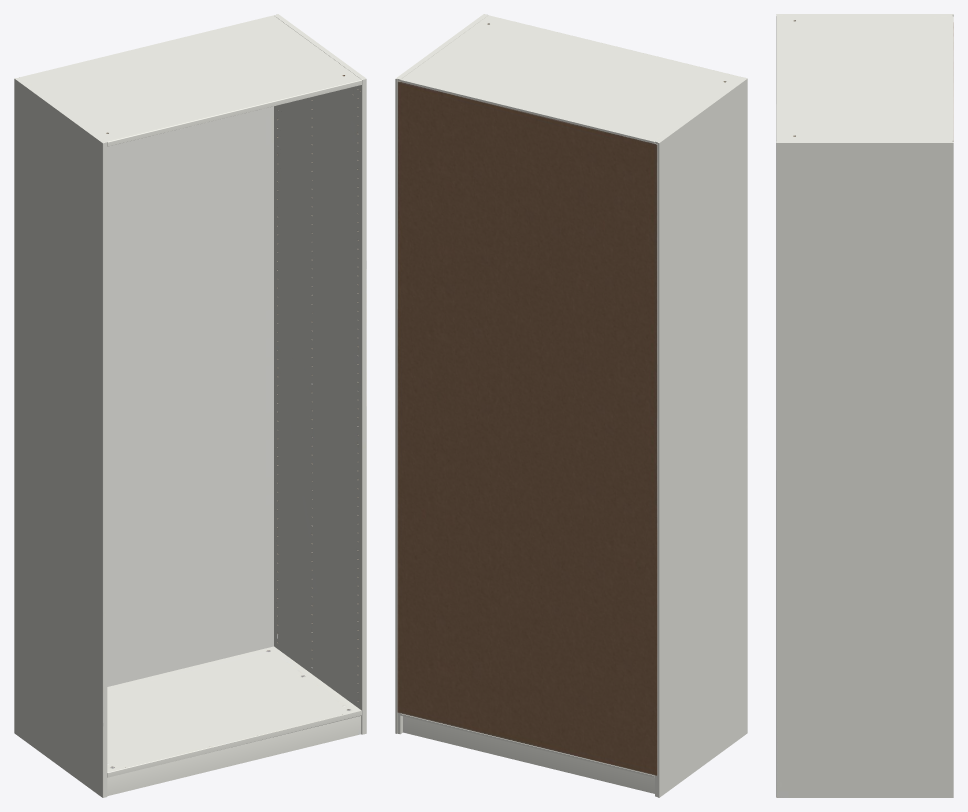
Rendered from pax_obudowa_szafy_50214560.glb.
3 renders of one model, left to right at view 1: azimuth 30°, elevation 25°; view 2: azimuth 150°, elevation 25°; view 3: azimuth 270°, elevation 25°, orthographic.
Parts seen in each view (by area): view 1: pax_obudowa_szafy_50214560; view 2: pax_obudowa_szafy_50214560; view 3: pax_obudowa_szafy_50214560.
Boxes of the visible parts, x1=… form: pax_obudowa_szafy_50214560: x1=14, y1=14, x2=366, y2=797; pax_obudowa_szafy_50214560: x1=395, y1=14, x2=747, y2=797; pax_obudowa_szafy_50214560: x1=776, y1=14, x2=953, y2=797.
Size of the model in its own units: 0.9975 by 2.36 by 0.5801.
1 material, 1 textured.
